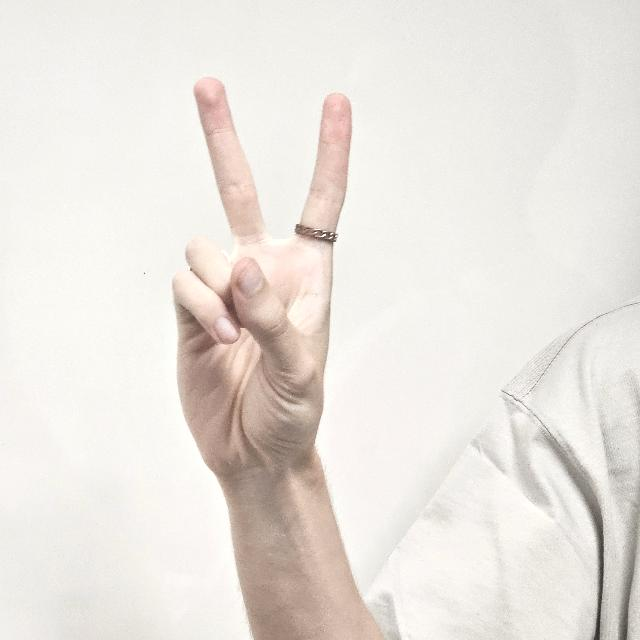Triangulo: (154, 70, 356, 524)
